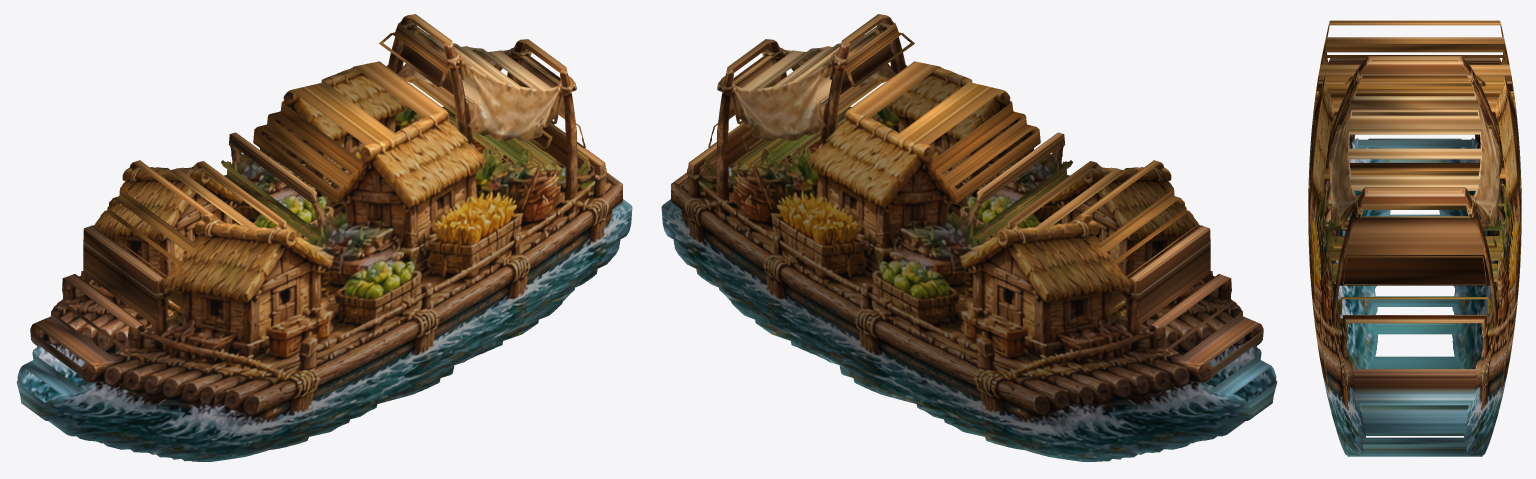
3 views of the same model, side by side, from view 1: azimuth 30°, elevation 25°; view 2: azimuth 150°, elevation 25°; view 3: azimuth 270°, elevation 25° (orthographic). The views are drawn at different scales.
Parts seen in each view (by area): view 1: villages:8; view 2: villages:8; view 3: villages:8.
Part boxes in pixels (box(x1,y1,x2,y2)): villages:8: box(16, 14, 632, 461); villages:8: box(661, 14, 1277, 461); villages:8: box(1308, 20, 1521, 456).
Bounding box in the file's own units: 1.57 × 0.9444 × 0.42.
1 material, 1 textured.
